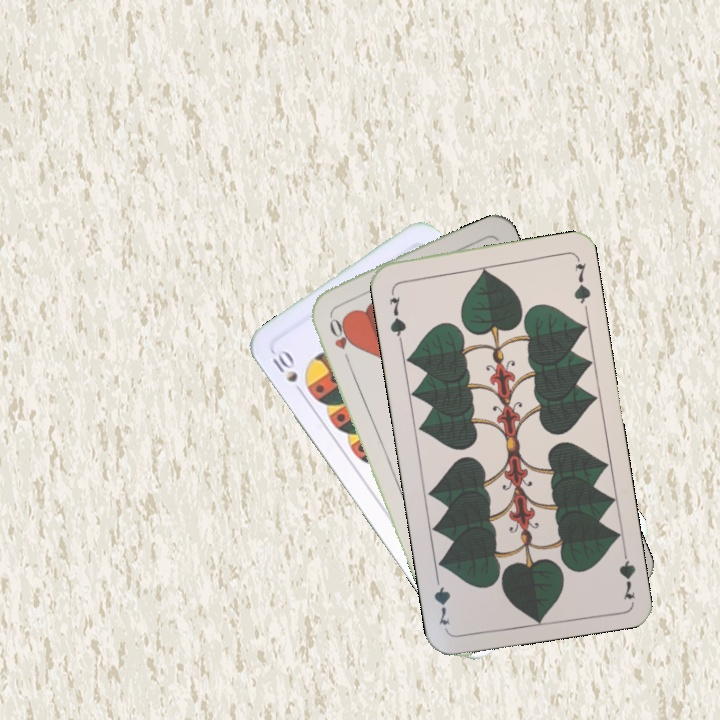G7: (385, 285, 409, 344), (615, 542, 638, 602)
HO: (325, 308, 353, 364)
S10: (265, 345, 308, 399)
